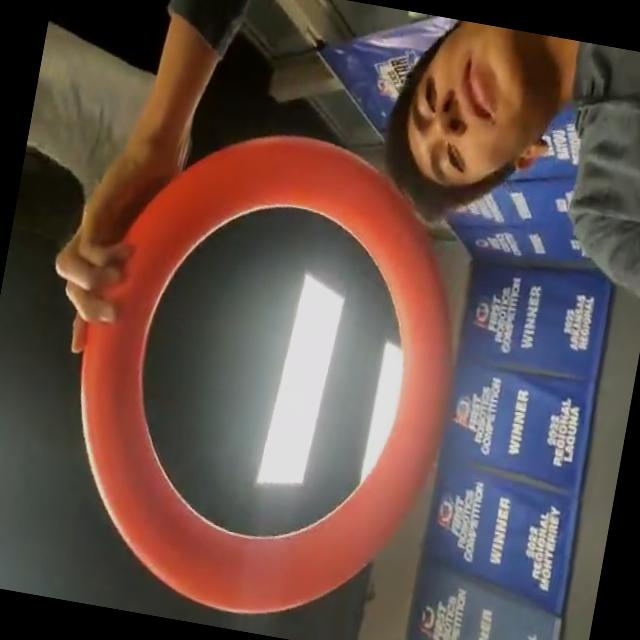note: (39, 99, 492, 640)
